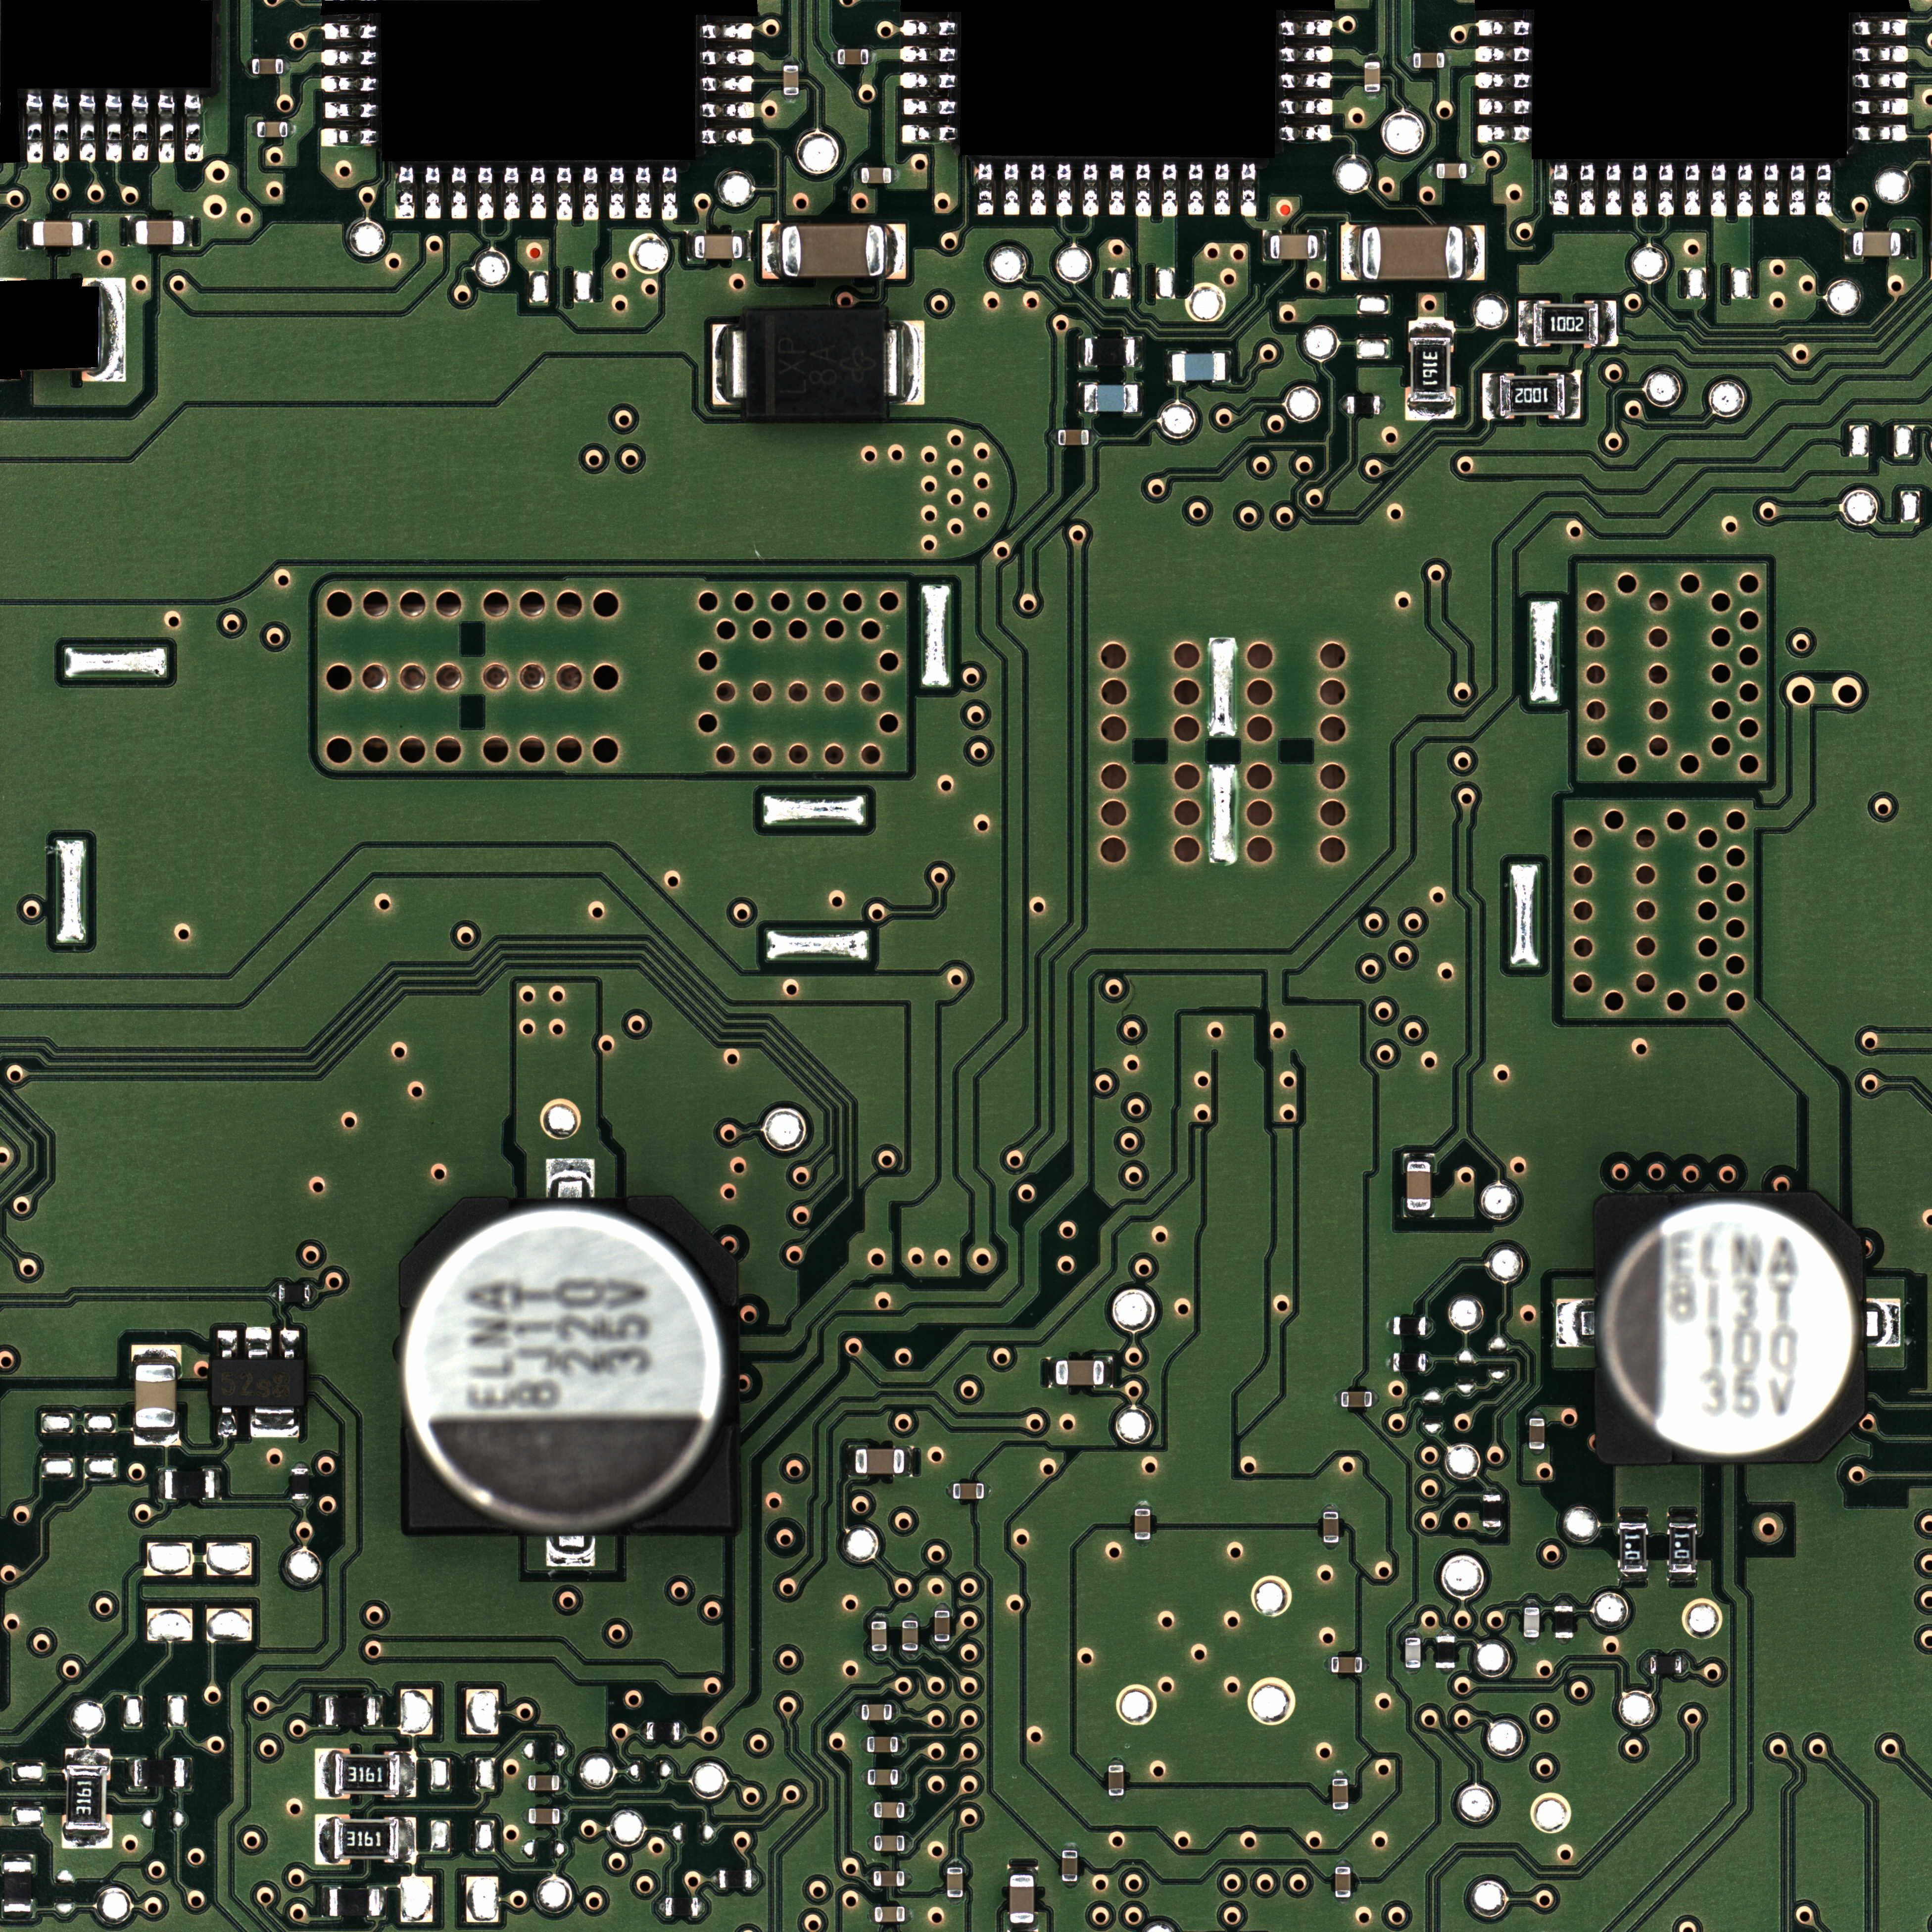Package: (396, 1198, 740, 1534), (1594, 1192, 1867, 1463), (745, 310, 886, 419), (1362, 226, 1463, 280), (782, 225, 885, 276), (211, 1359, 306, 1407), (1499, 375, 1566, 416), (1410, 338, 1453, 402), (1534, 303, 1599, 343), (65, 1766, 106, 1829), (136, 1364, 177, 1428), (334, 1819, 398, 1859), (334, 1755, 400, 1794), (1173, 352, 1226, 380), (4, 1861, 32, 1913), (1085, 386, 1138, 412), (1085, 338, 1134, 366), (165, 1470, 214, 1499), (134, 1759, 184, 1787), (326, 1697, 375, 1725), (329, 1888, 379, 1916), (1670, 1523, 1697, 1573), (32, 221, 83, 246), (855, 1449, 904, 1474), (1056, 1361, 1104, 1385), (1407, 1162, 1431, 1210), (1010, 1875, 1035, 1923), (1621, 1523, 1645, 1571), (1854, 232, 1900, 257), (1270, 235, 1318, 258), (695, 235, 743, 258), (136, 221, 184, 244), (1392, 1316, 1426, 1336), (646, 1721, 679, 1741), (1483, 1495, 1502, 1527), (1392, 1353, 1426, 1371), (665, 1898, 699, 1916), (1649, 1656, 1683, 1674), (1555, 1606, 1573, 1638), (1348, 396, 1380, 414), (278, 1284, 310, 1302), (1437, 1637, 1454, 1668), (720, 1870, 752, 1888), (292, 1468, 310, 1499), (867, 1769, 899, 1785), (1405, 1637, 1421, 1668), (1062, 1851, 1077, 1882), (1332, 1778, 1348, 1810), (934, 1610, 950, 1642), (1523, 1606, 1539, 1638), (1058, 430, 1090, 446), (870, 1621, 886, 1651), (947, 1867, 962, 1897), (1134, 1509, 1150, 1539), (1323, 1513, 1339, 1543), (954, 1483, 984, 1499), (529, 1808, 559, 1824), (1437, 163, 1467, 179), (862, 1704, 892, 1720), (902, 1621, 918, 1651), (862, 168, 892, 184), (529, 1775, 559, 1790), (1529, 1419, 1545, 1449), (253, 58, 283, 74), (874, 1835, 904, 1851), (874, 1870, 904, 1886), (257, 122, 287, 138), (1364, 62, 1380, 92), (874, 1803, 904, 1819), (837, 50, 869, 64), (1336, 1867, 1350, 1898), (867, 1737, 899, 1752), (1109, 1764, 1123, 1796), (1341, 1392, 1371, 1407), (1332, 1658, 1362, 1672), (1414, 53, 1444, 67), (784, 65, 798, 96), (876, 1907, 904, 1921)
Solder: (886, 320, 925, 405), (103, 278, 127, 382), (713, 324, 745, 403), (545, 1157, 594, 1198), (1555, 1299, 1592, 1346), (1868, 1299, 1900, 1346), (547, 1536, 594, 1568), (184, 92, 205, 163), (156, 94, 177, 165), (50, 94, 71, 165), (249, 1408, 299, 1438), (103, 94, 124, 163), (23, 94, 44, 163), (78, 92, 97, 163), (131, 92, 150, 161), (320, 19, 377, 42), (899, 16, 957, 37), (885, 223, 906, 280), (1159, 161, 1180, 218), (901, 124, 957, 145), (901, 96, 957, 117), (901, 71, 957, 92), (901, 44, 957, 65), (421, 165, 442, 221), (320, 127, 377, 149), (320, 99, 377, 120), (320, 73, 377, 94), (320, 46, 377, 67), (1813, 163, 1835, 218), (1787, 163, 1808, 218), (1760, 163, 1782, 218), (1734, 163, 1755, 218), (1709, 163, 1730, 218), (1681, 163, 1702, 218), (1656, 163, 1677, 218), (1603, 163, 1624, 218), (1550, 163, 1571, 218), (1212, 161, 1233, 216), (1185, 161, 1207, 216), (1108, 163, 1129, 218), (1001, 163, 1023, 218), (1028, 163, 1049, 218), (1053, 161, 1074, 216), (701, 99, 755, 120), (701, 126, 755, 147), (1852, 97, 1911, 117), (1852, 71, 1911, 90), (1852, 124, 1911, 143), (1474, 18, 1532, 37), (1474, 44, 1532, 64), (1474, 96, 1532, 115), (1474, 71, 1532, 90), (1474, 124, 1532, 143), (1629, 163, 1651, 216), (1576, 163, 1598, 216), (975, 163, 996, 216), (763, 223, 782, 280), (1465, 225, 1484, 281), (1852, 44, 1909, 64), (660, 165, 679, 221), (633, 165, 653, 221), (580, 165, 600, 221), (607, 165, 626, 221), (556, 165, 575, 221), (529, 165, 548, 221), (502, 165, 522, 221), (476, 165, 495, 221), (448, 165, 467, 221), (395, 165, 414, 221), (1341, 225, 1361, 280), (1240, 163, 1260, 218), (1134, 163, 1154, 218), (1081, 161, 1100, 216), (701, 21, 755, 41), (701, 48, 755, 67), (701, 74, 755, 94), (1852, 18, 1911, 35), (315, 1748, 334, 1799), (315, 1813, 334, 1865), (1279, 97, 1334, 115), (131, 1345, 180, 1364), (1405, 403, 1456, 421), (1408, 318, 1454, 338), (398, 1817, 418, 1863), (62, 1831, 111, 1849), (1279, 19, 1334, 35), (1279, 73, 1334, 88), (1279, 126, 1334, 142), (1279, 46, 1332, 62), (134, 1428, 180, 1445), (1599, 301, 1617, 347), (246, 1327, 271, 1359), (65, 1748, 110, 1766), (1483, 373, 1499, 419), (400, 1753, 416, 1798), (1566, 372, 1580, 419), (1518, 301, 1532, 347), (218, 1407, 237, 1437), (218, 1330, 237, 1359), (280, 1330, 299, 1359), (1134, 336, 1143, 368), (1900, 228, 1909, 260), (2, 1852, 34, 1861), (1007, 1867, 1037, 1875), (1619, 1573, 1649, 1582), (743, 230, 752, 260), (1667, 1573, 1697, 1582), (1104, 1357, 1113, 1387), (1403, 1152, 1433, 1161), (1844, 230, 1852, 260), (1318, 230, 1327, 260), (214, 1468, 223, 1499), (904, 1447, 913, 1477), (184, 218, 193, 248), (1008, 1923, 1039, 1932), (686, 232, 695, 260), (379, 1888, 387, 1916), (1166, 350, 1173, 384), (1403, 1210, 1435, 1217), (1077, 336, 1085, 368), (1263, 230, 1270, 262), (157, 1468, 165, 1500), (322, 1886, 329, 1918), (375, 1695, 382, 1727), (127, 216, 134, 248), (1138, 382, 1145, 414), (318, 1695, 326, 1727), (2, 1913, 32, 1920), (1049, 1357, 1056, 1387), (1077, 382, 1085, 412), (127, 1759, 134, 1789), (83, 219, 90, 249), (25, 219, 32, 249), (847, 1445, 855, 1476), (184, 1759, 191, 1789), (1619, 1514, 1647, 1522), (1668, 1514, 1697, 1522), (1226, 350, 1231, 384), (904, 1835, 913, 1852), (945, 1483, 954, 1500), (853, 166, 862, 184), (1371, 1391, 1380, 1408), (1134, 1500, 1152, 1509), (904, 1803, 913, 1819), (1062, 1842, 1077, 1851), (1428, 163, 1437, 179), (1529, 1410, 1545, 1419), (853, 1704, 862, 1720), (1483, 1527, 1502, 1534), (679, 1721, 686, 1741), (1385, 1316, 1392, 1336), (658, 1897, 665, 1916), (869, 48, 876, 65), (984, 1483, 991, 1500), (1555, 1638, 1573, 1645), (892, 166, 899, 184), (899, 1736, 906, 1753), (1134, 1541, 1152, 1548), (559, 1775, 566, 1792), (904, 1872, 913, 1886), (1555, 1598, 1573, 1605), (1445, 51, 1453, 69), (1407, 51, 1414, 69), (1322, 1504, 1339, 1511), (292, 1500, 310, 1507), (1334, 1391, 1341, 1408), (1332, 1810, 1350, 1817), (1483, 1488, 1500, 1495), (699, 1898, 706, 1916), (1426, 1353, 1433, 1371), (1426, 1318, 1433, 1336), (271, 1284, 278, 1302), (870, 1614, 888, 1621), (1323, 1656, 1330, 1674), (310, 1284, 317, 1302), (713, 1870, 720, 1888), (1437, 1668, 1454, 1675), (1437, 1629, 1454, 1637), (1362, 1656, 1369, 1674), (752, 1870, 759, 1888), (867, 1835, 874, 1851), (1062, 1882, 1077, 1890), (1467, 163, 1474, 179), (288, 122, 295, 138), (1336, 1859, 1352, 1867), (246, 58, 253, 74), (892, 1704, 899, 1720), (559, 1808, 566, 1824), (860, 1769, 867, 1785), (1405, 1668, 1421, 1675), (860, 1736, 867, 1752), (1090, 430, 1097, 446), (870, 1651, 886, 1658), (782, 58, 798, 65), (1051, 430, 1058, 446), (1364, 55, 1380, 62), (1523, 1638, 1539, 1645), (902, 1614, 918, 1621), (867, 1907, 874, 1923), (934, 1603, 950, 1610), (902, 1651, 918, 1658), (522, 1808, 529, 1824), (899, 1769, 906, 1785), (906, 1907, 913, 1923), (1523, 1599, 1539, 1606), (1332, 1771, 1348, 1778), (522, 1775, 529, 1790), (1405, 1629, 1421, 1637), (292, 1461, 308, 1468), (1529, 1449, 1545, 1456), (1364, 92, 1380, 99), (283, 58, 290, 74), (784, 96, 800, 103), (1323, 1543, 1339, 1550), (640, 1721, 646, 1741), (867, 1803, 874, 1817), (867, 1872, 874, 1886), (251, 120, 257, 138), (832, 48, 837, 65), (1380, 396, 1385, 414), (1683, 1656, 1688, 1674), (947, 1898, 964, 1904), (1644, 1656, 1649, 1674), (1387, 1353, 1392, 1371), (1341, 396, 1346, 414), (1334, 1898, 1352, 1904), (947, 1861, 962, 1867), (1108, 1759, 1123, 1764), (1108, 1798, 1125, 1801)
